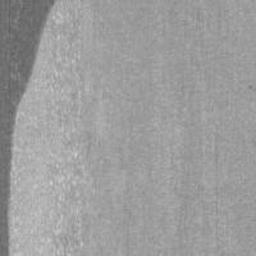Water spot: (0, 0, 60, 256)
